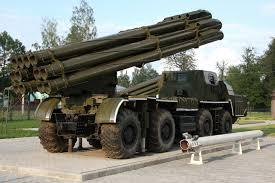MIL_SAM_TEL: (8, 8, 249, 158)
